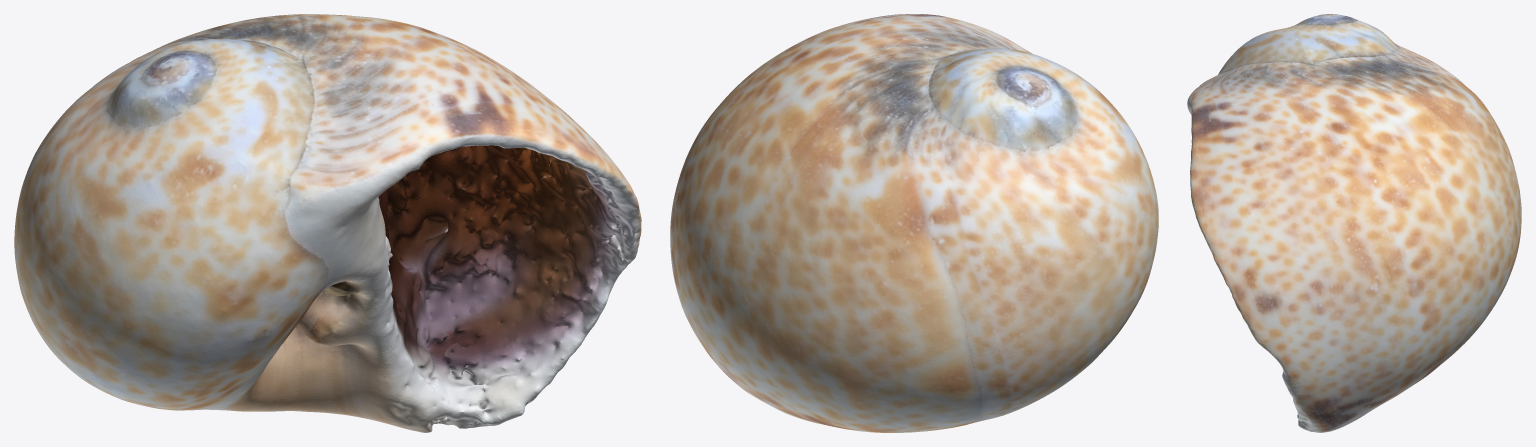
File: MZUR3D-056.glb
3 renders of one model, left to right at view 1: azimuth 30°, elevation 25°; view 2: azimuth 150°, elevation 25°; view 3: azimuth 270°, elevation 25°, orthographic. The views are drawn at different scales.
Parts seen in each view (by area): view 1: MZUR3D-056; view 2: MZUR3D-056; view 3: MZUR3D-056.
Part boxes in pixels (box(x1,y1,x2,y2)): MZUR3D-056: box(14, 14, 641, 432); MZUR3D-056: box(670, 14, 1158, 432); MZUR3D-056: box(1187, 14, 1521, 432).
Bounding box in the file's own units: 0.0737 × 0.0569 × 0.0549.
Materials: 1 (1 with a texture image).
